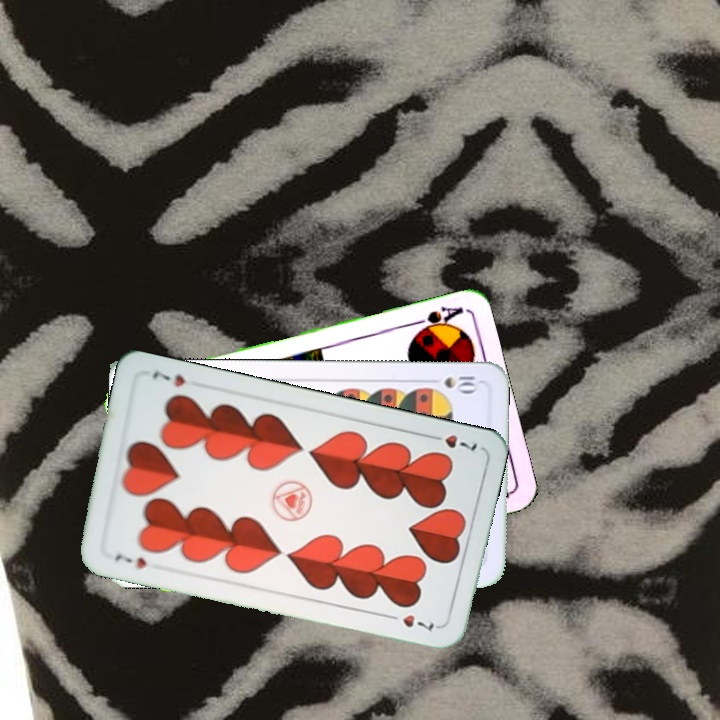H7: (424, 430, 480, 456), (110, 549, 150, 572)
S10: (424, 371, 479, 394)
SA: (407, 302, 465, 337)
